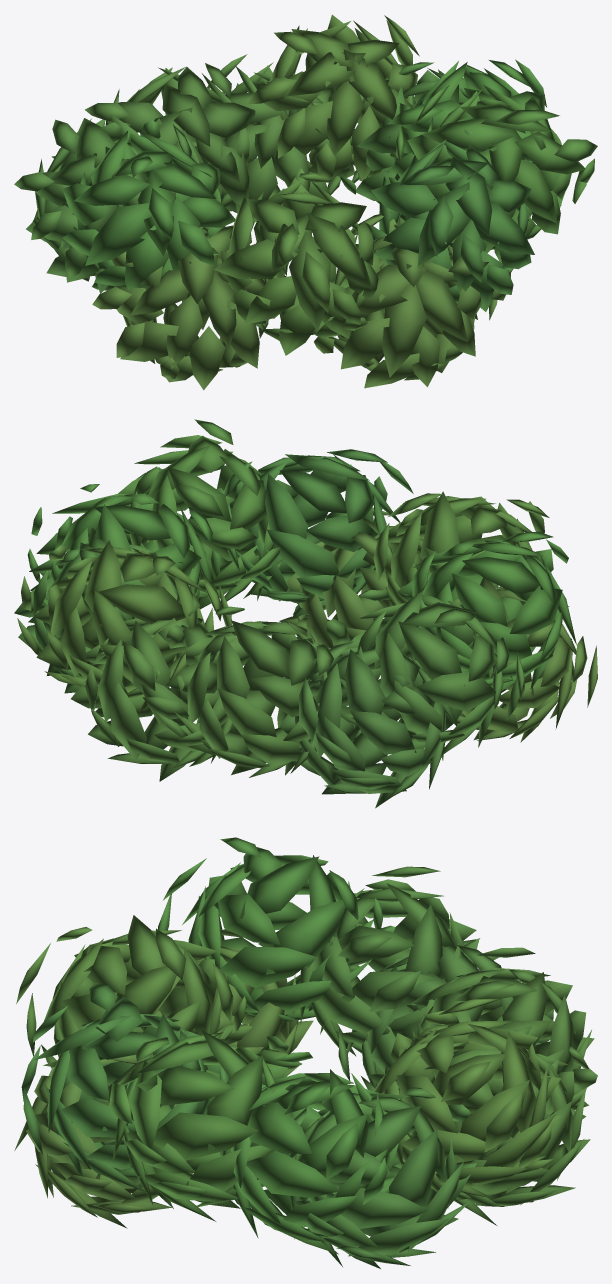
File: bush.glb
The picture shows the model from 3 angles, top to bottom: view 1: azimuth 30°, elevation 25°; view 2: azimuth 150°, elevation 25°; view 3: azimuth 270°, elevation 25°; orthographic projection. The views are drawn at different scales.
Visible parts, largest first — view 1: bush_Painted jade foliage; view 2: bush_Painted jade foliage; view 3: bush_Painted jade foliage.
Part boxes in pixels (box(x1,y1,x2,y2)): bush_Painted jade foliage: box(14, 14, 597, 390); bush_Painted jade foliage: box(14, 419, 597, 808); bush_Painted jade foliage: box(14, 837, 597, 1268).
Size of the model in its own units: 1.16 by 0.5288 by 1.05.
